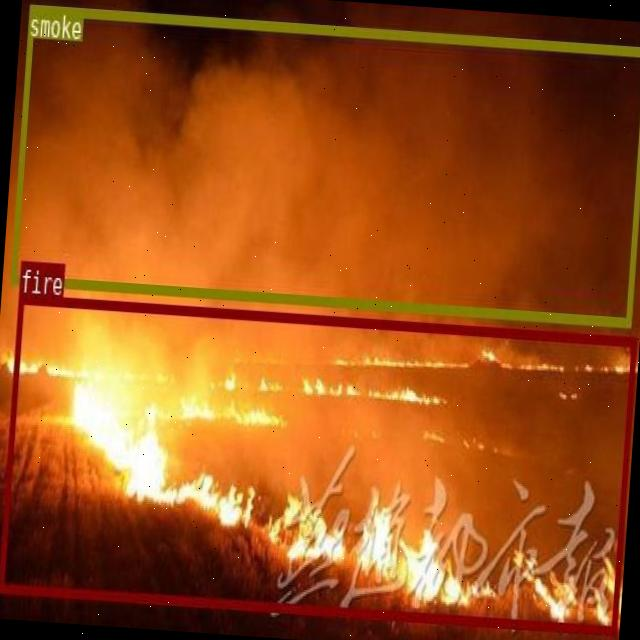fire: (0, 292, 634, 632)
smoke: (10, 3, 640, 324)
